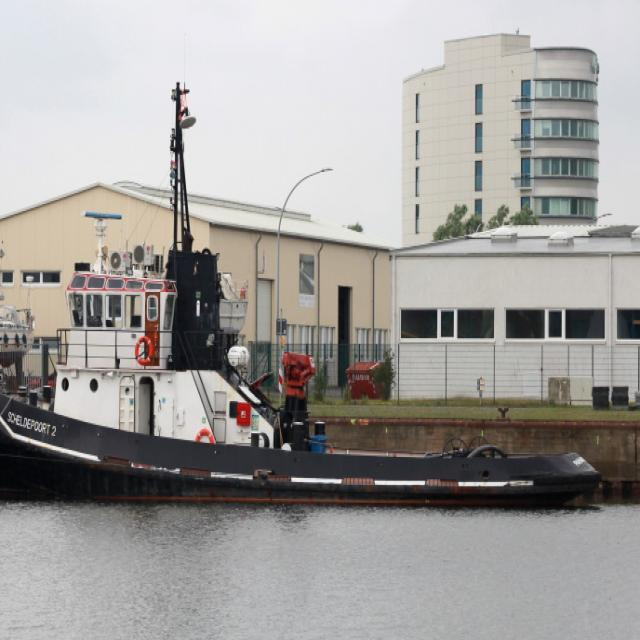tugboat: (1, 208, 608, 521)
